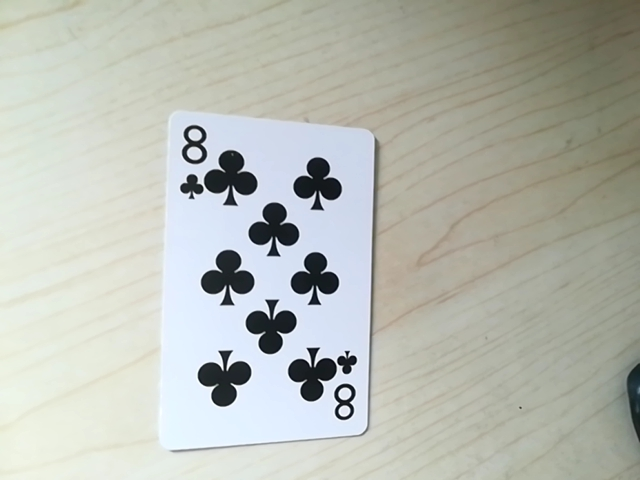mh 8: (167, 118, 212, 190), (324, 362, 366, 428)
